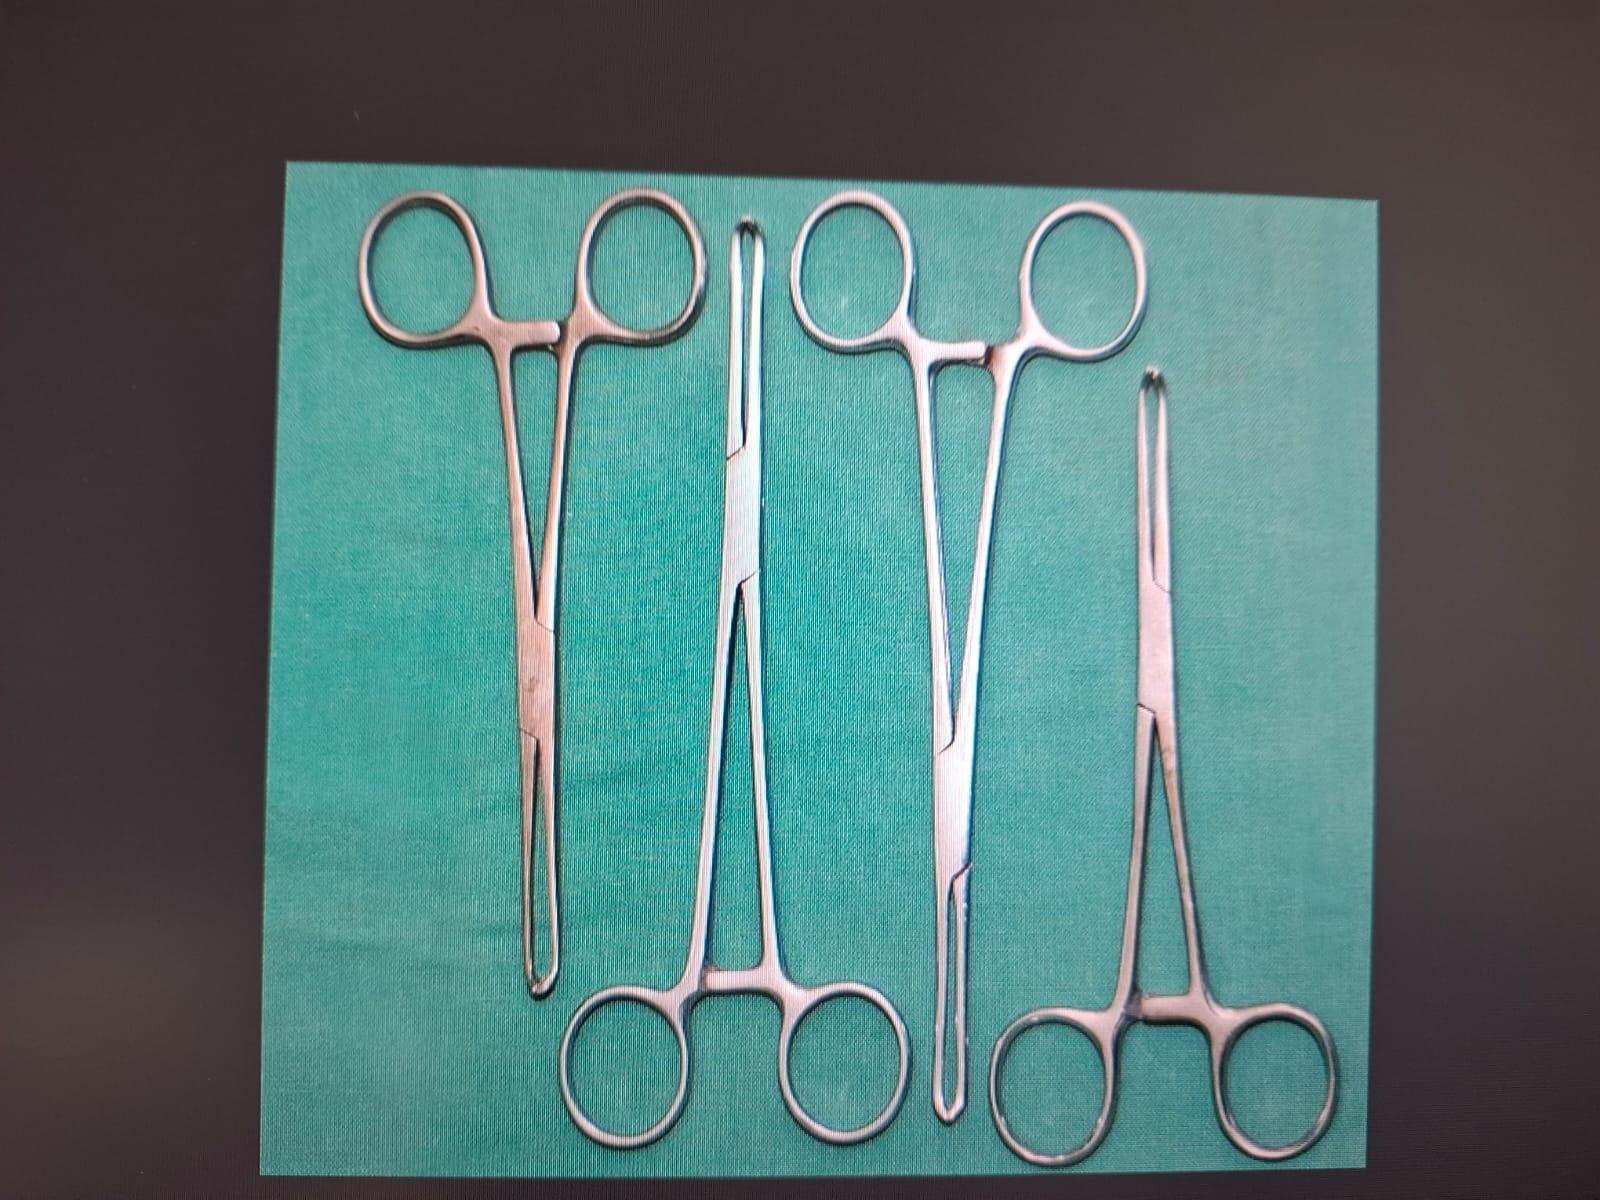Allis Forceps: (544, 205, 926, 1166), (772, 182, 1158, 1122), (978, 361, 1361, 1174), (338, 180, 714, 1006)
